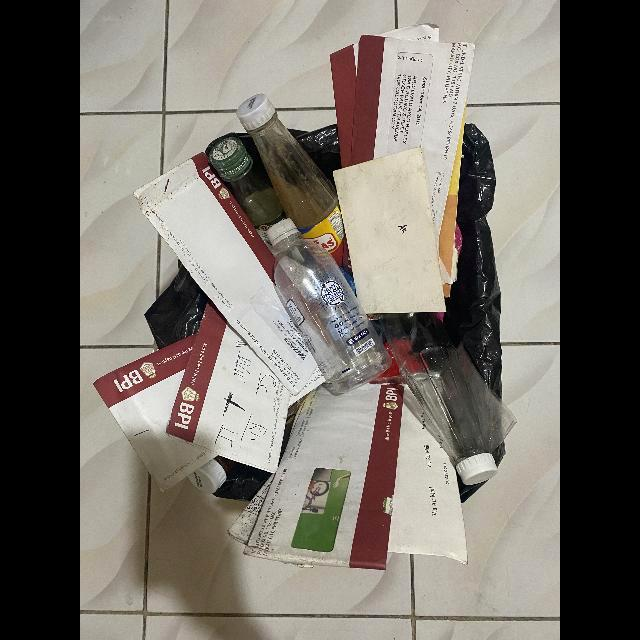cardboard: (333, 147, 447, 313)
glass_bottle: (379, 313, 498, 485), (236, 94, 344, 268), (209, 137, 287, 245)
paper: (133, 151, 336, 395), (244, 384, 404, 570), (350, 34, 477, 246), (165, 299, 291, 474), (93, 333, 219, 492)
plastic_bottle: (265, 218, 393, 393)
